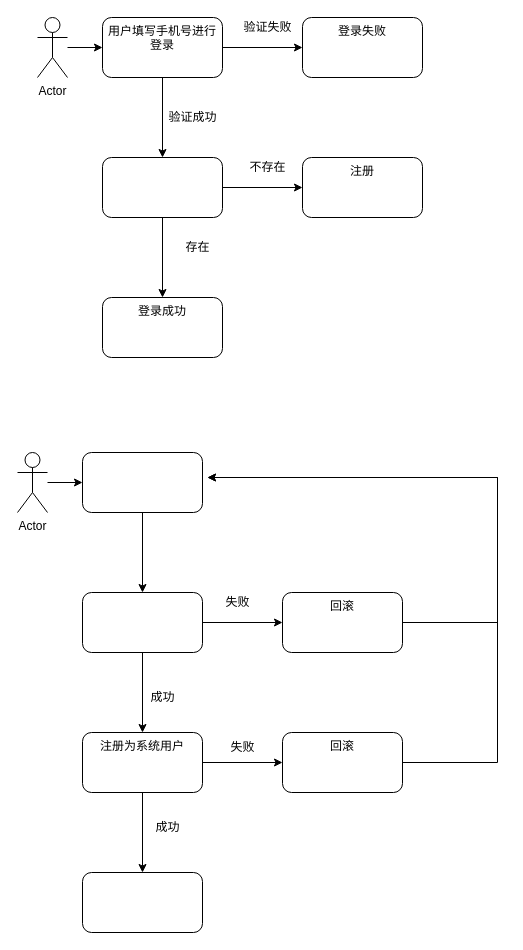
Image size: 523x950. Some labels were removed from this diagram. The shapes that lost their labels are listed below. From the top down, each one's centre as x and y in pixels, then its label:
[162,187]: 校验用户是否存在
[142,482]: 用户填写手机号进行注册
[142,622]: 校验验证码
[142,902]: 注册成功/自动登录
